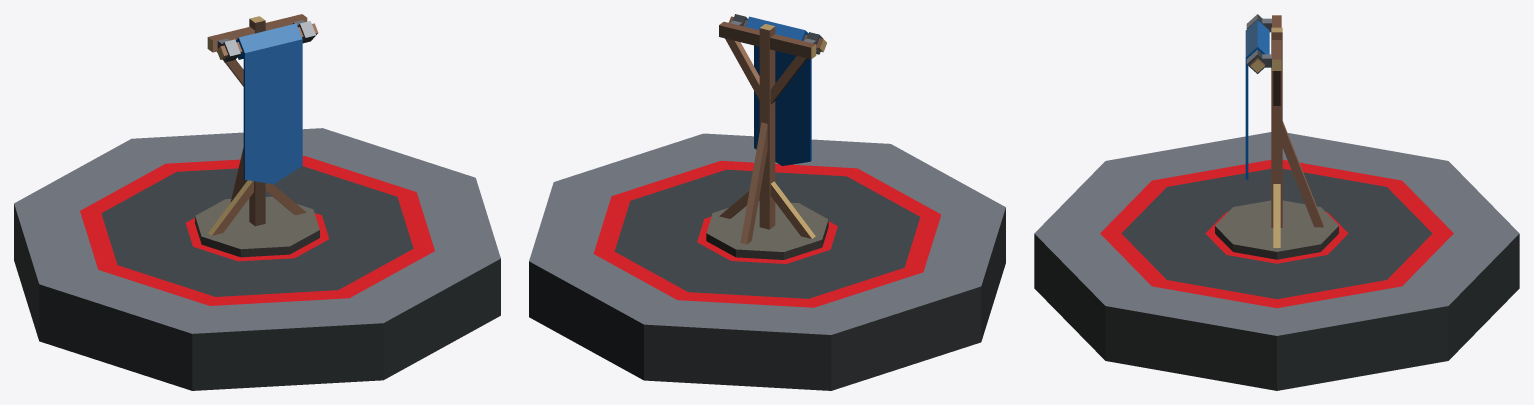
The model's file is TB_BuildingPoint.FBX.
The picture shows the model from 3 angles, left to right: view 1: azimuth 30°, elevation 25°; view 2: azimuth 150°, elevation 25°; view 3: azimuth 270°, elevation 25°; orthographic projection. The views are drawn at different scales.
Visible parts, largest first — view 1: TB_BuildingPoint; view 2: TB_BuildingPoint; view 3: TB_BuildingPoint.
Boxes of the visible parts, box(x1,y1,x2,y2) form: TB_BuildingPoint: box(14, 14, 500, 390); TB_BuildingPoint: box(529, 14, 1005, 390); TB_BuildingPoint: box(1034, 14, 1519, 390).
Size of the model in its own units: 8 by 4.7 by 8.
